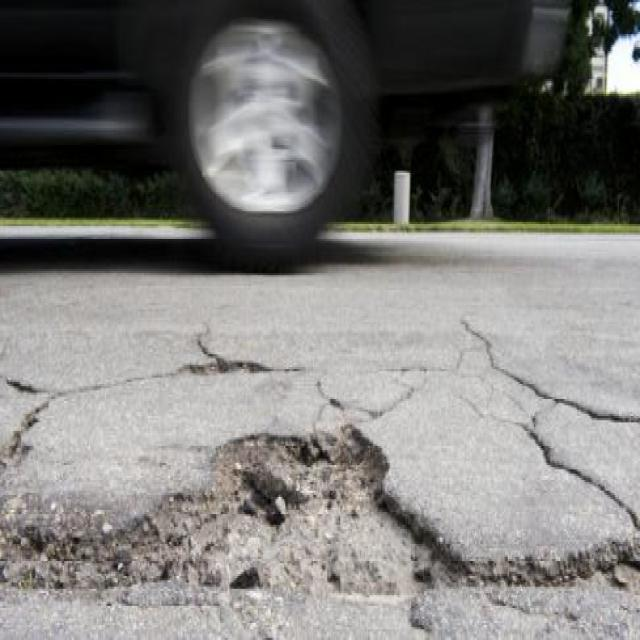cracks: (0, 322, 278, 407), (516, 390, 634, 536), (0, 354, 93, 476)
pothole: (102, 414, 475, 606)
